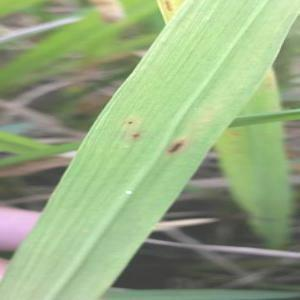0 BrownSpot: (161, 135, 192, 159), (127, 128, 147, 142), (124, 118, 136, 128)
